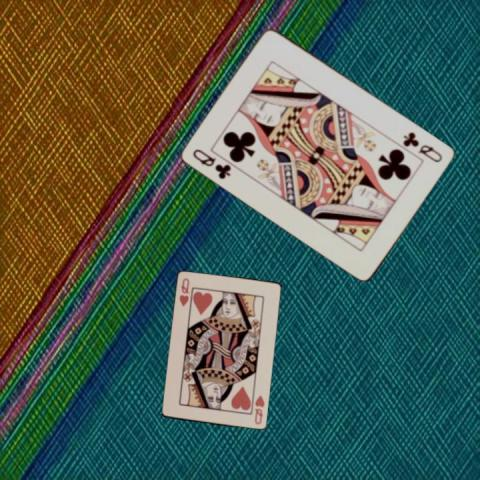Qc: (400, 129, 445, 164), (190, 145, 233, 181)
Qh: (252, 392, 266, 426), (176, 275, 190, 308)
